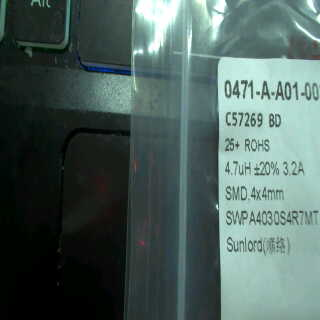4.7uH: (224, 156, 252, 181)
